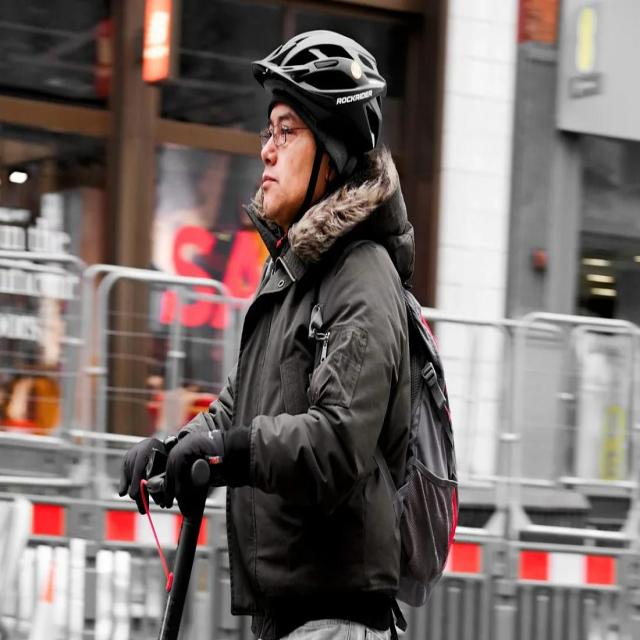Helmet: (248, 31, 387, 223)
